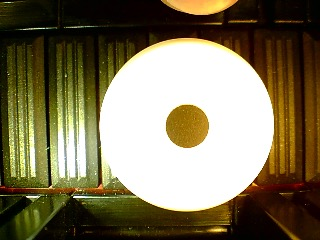BOHO: (98, 37, 274, 212)
